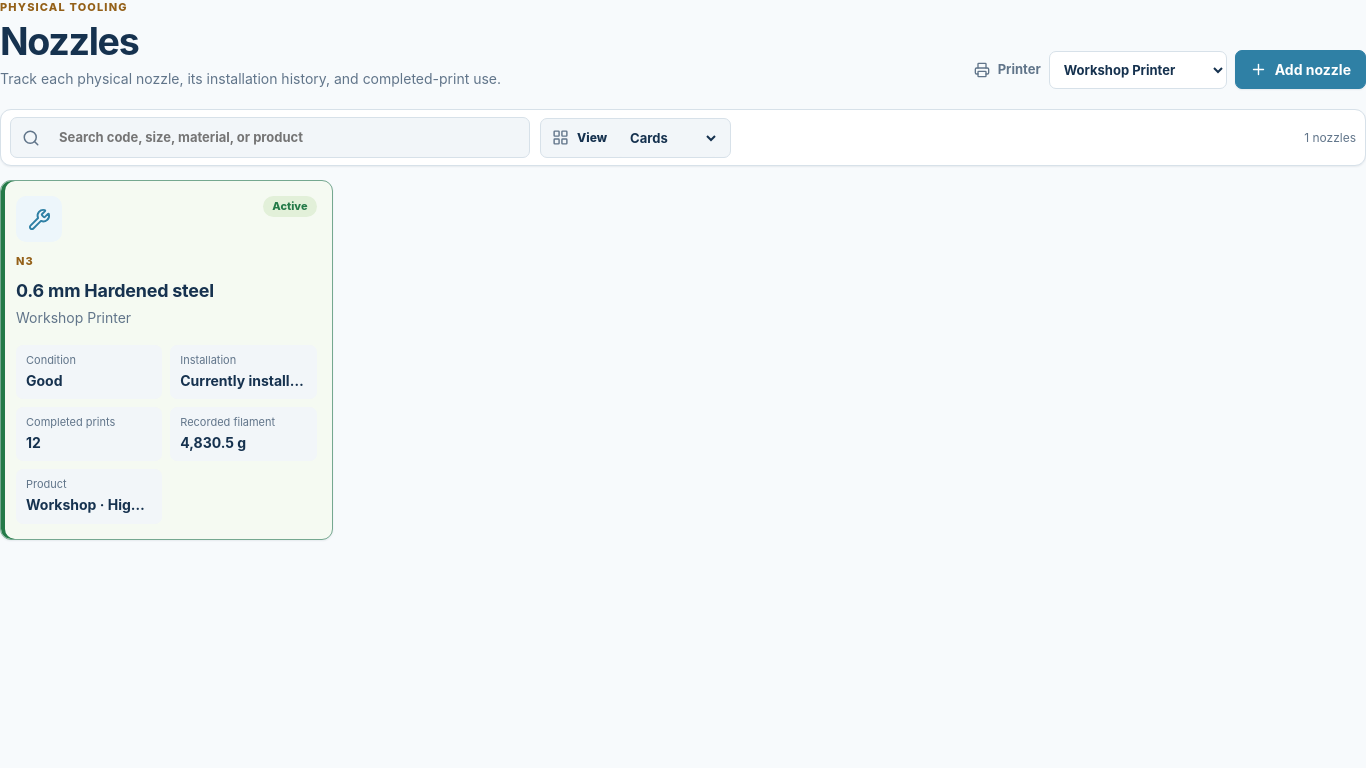
Test: NozzlesPage › filters the catalog and new-nozzle scope by the selected printer
This screenshot has width=1366, height=768.
Expected: the heading "0.6 mm Hardened steel" is shown, [16,280,214,301]
Expected: the text "N4" is not shown
Select "Backup Printer" in the dropdown named "Select nozzle printer" at (1138,70), box [1049,51,1227,89]
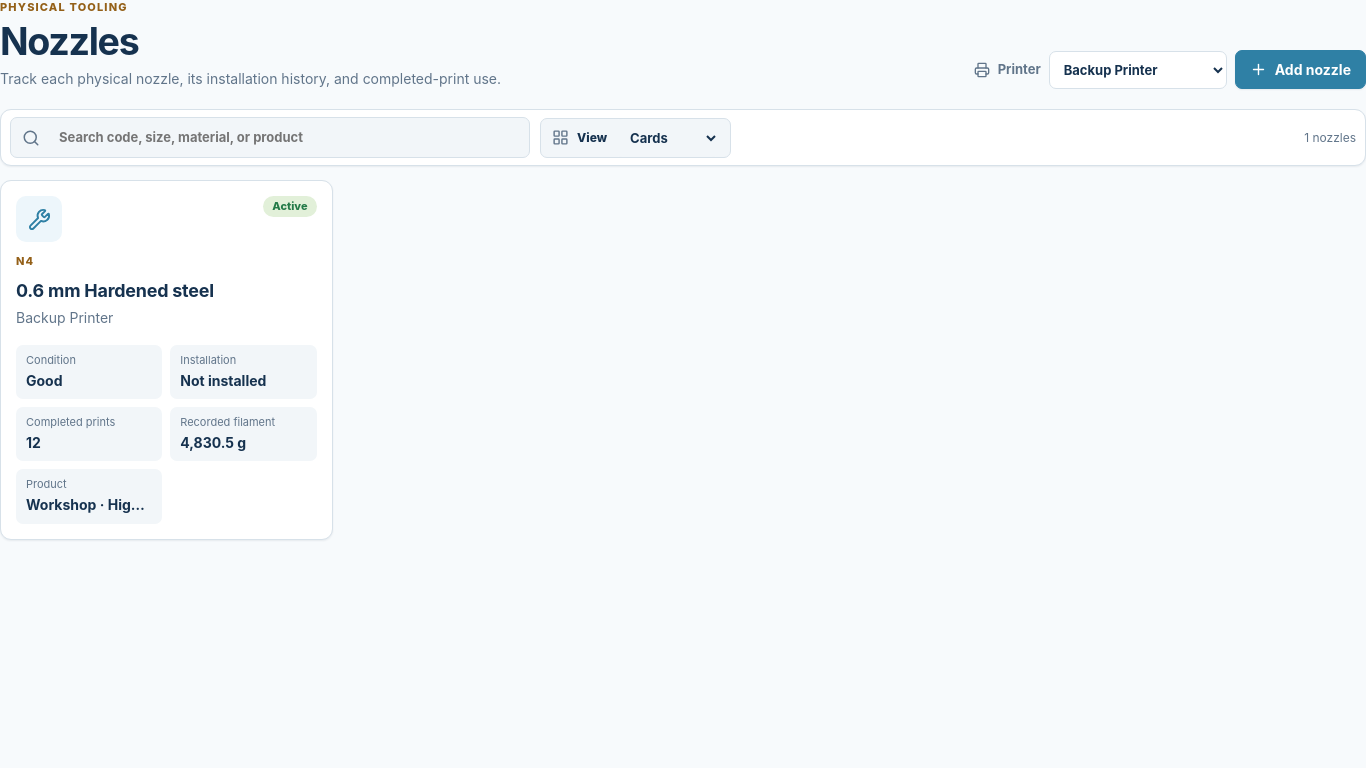
Now the text "N4" is shown, box [16,254,34,268]
Now the button "N3" is gone
Click the button "Add nozzle" at (1300,70), box [1235,50,1365,89]
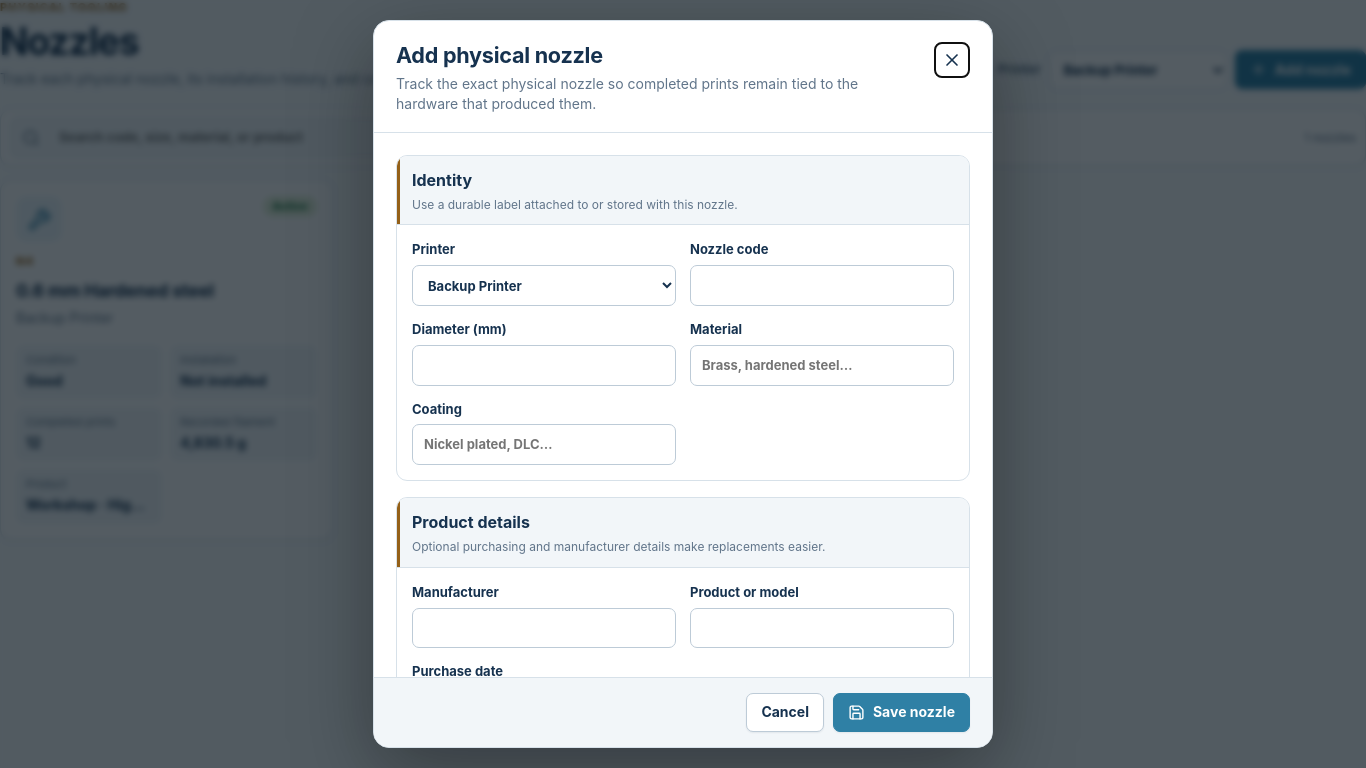
Now the dropdown labelled "Printer" shows "Backup Printer", box [412,265,676,306]
